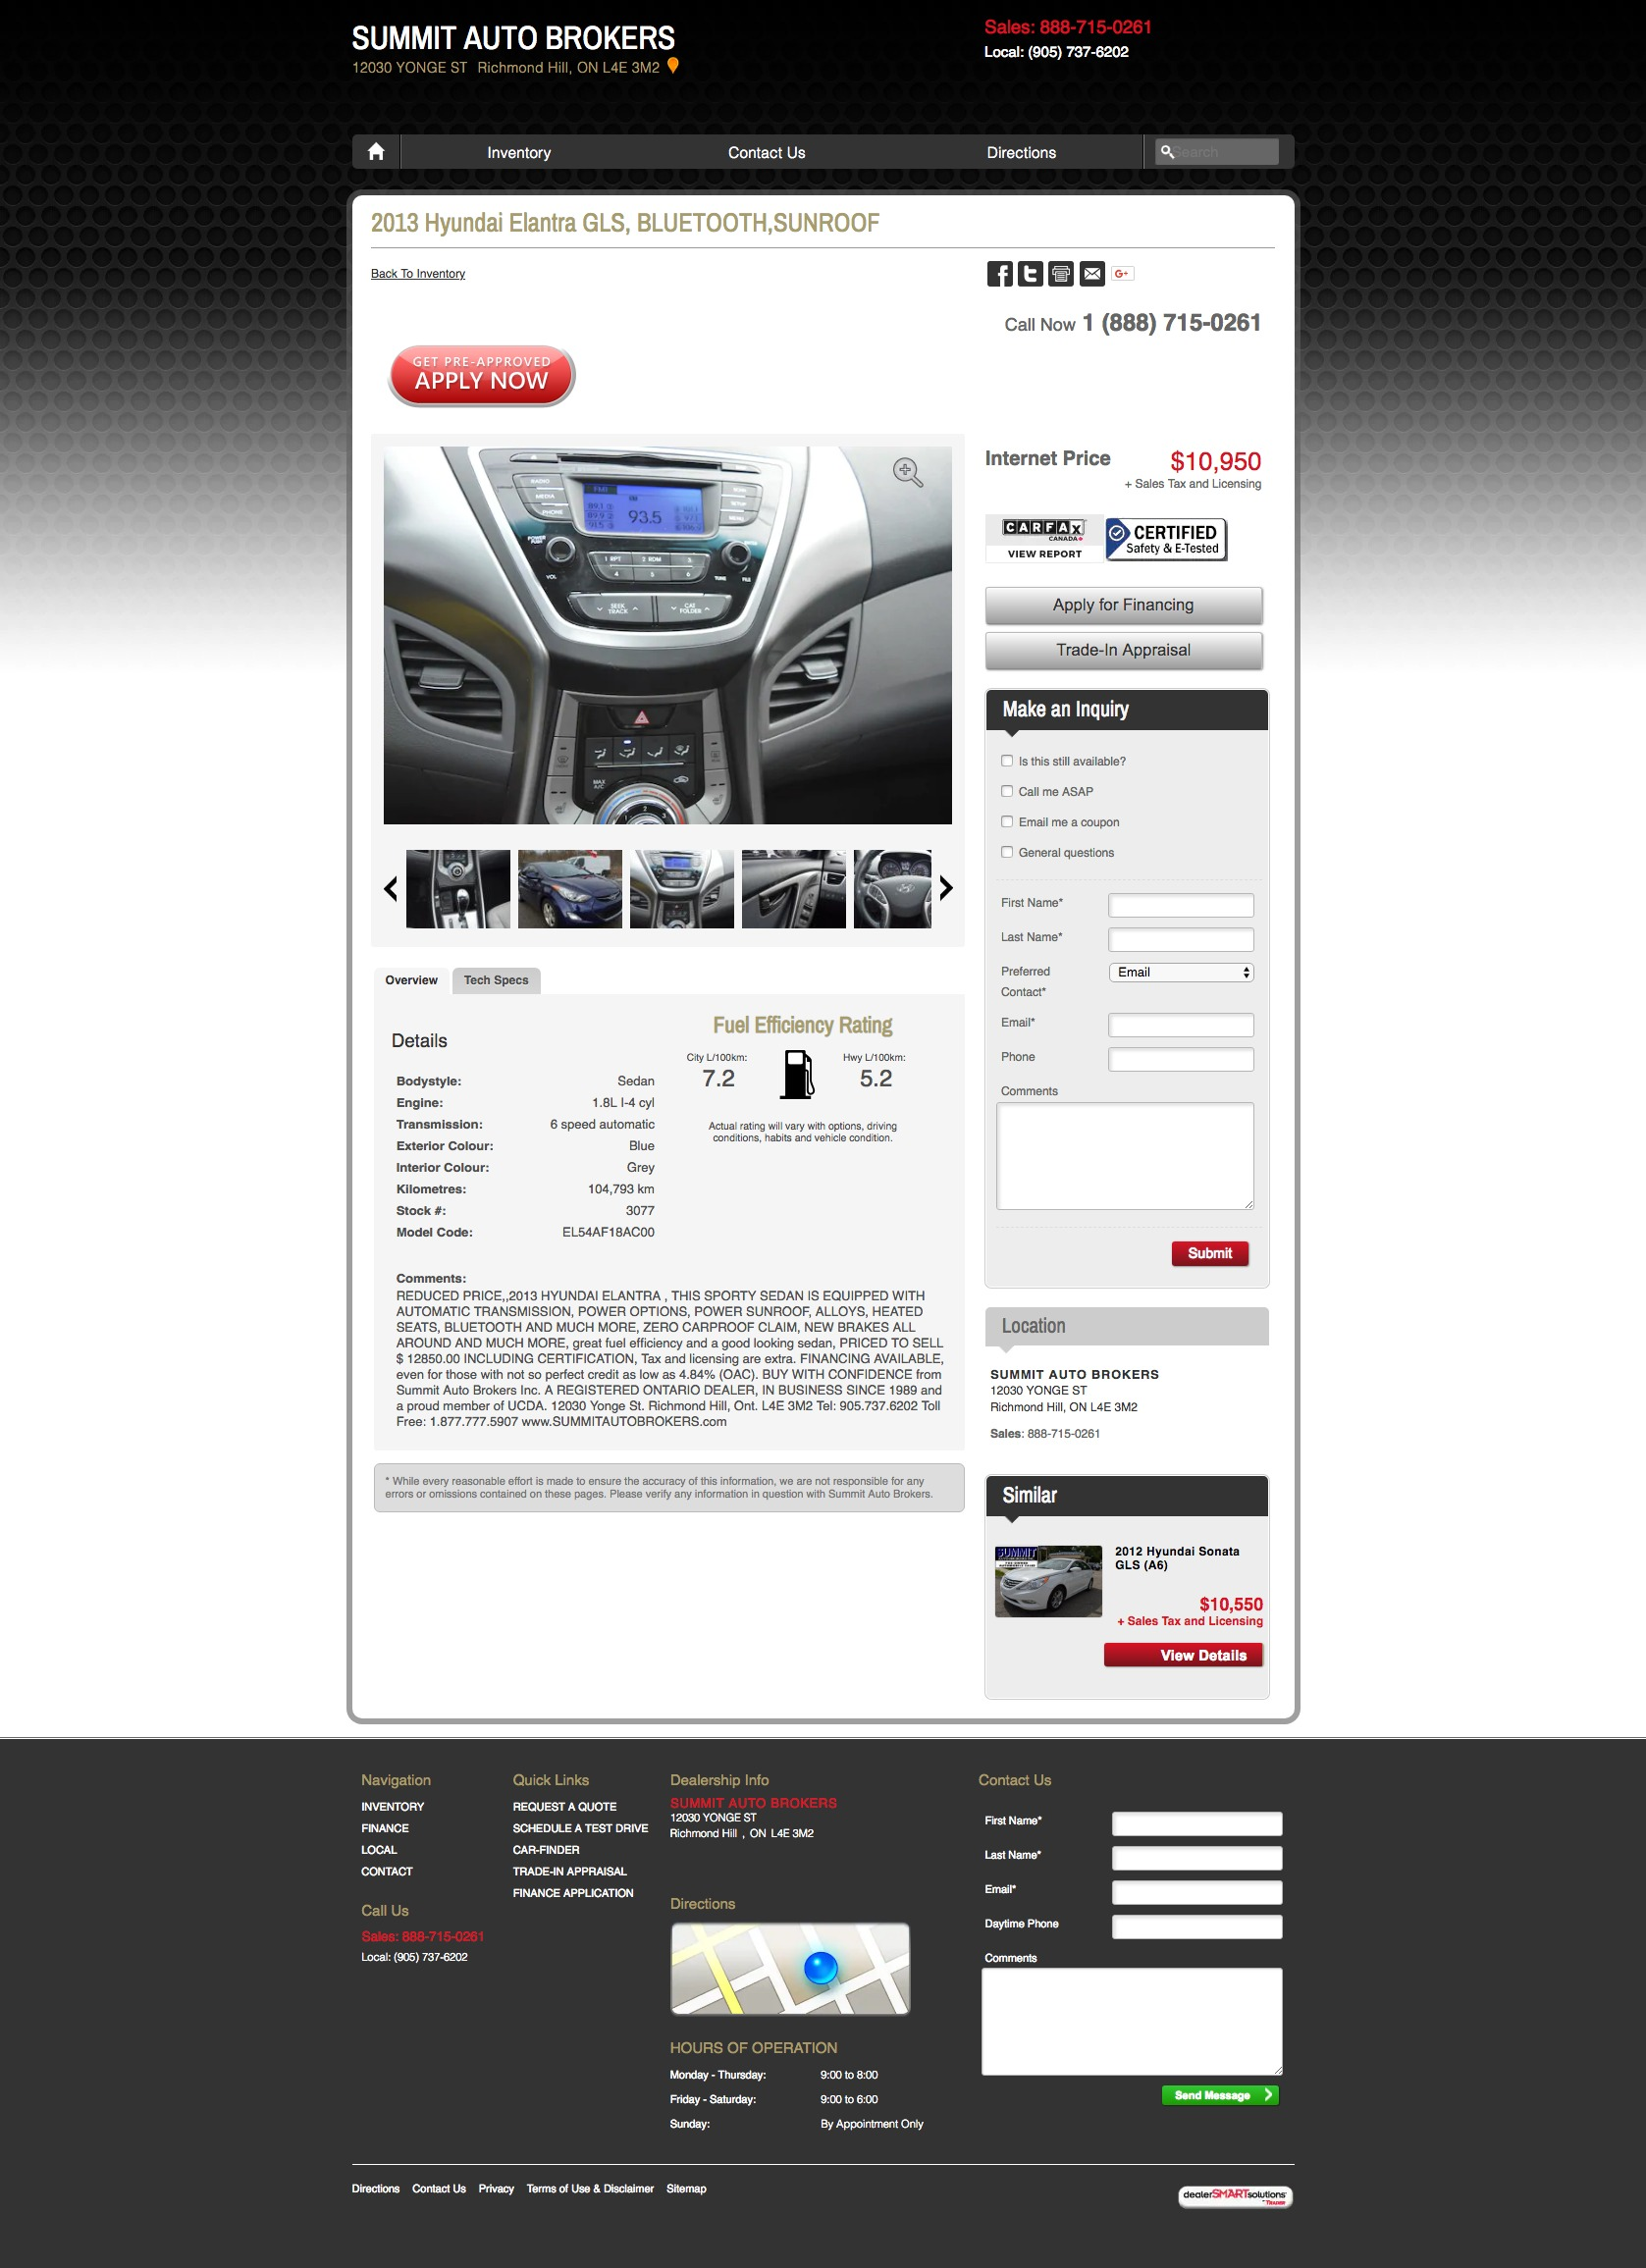car: (938, 873, 956, 905)
